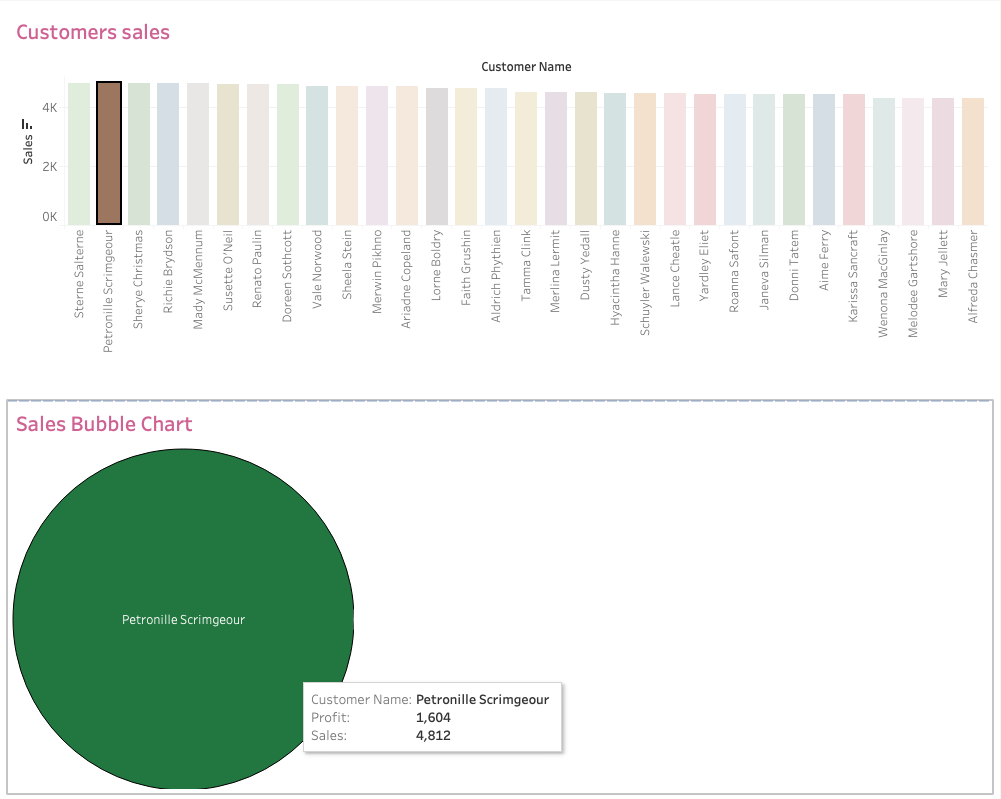

The page's visual inventory and layout, read from the dashboard file:
{"tool":"tableau","page":{"name":"Dashboard 1","canvas":[1000,800],"ordinal":0},"visuals":[{"type":"worksheet","title":"Customers sales","mark":"Bar","rows":["Sales"],"cols":["Customer Name"],"box":[8,8,984,392]},{"type":"worksheet","title":"Sales Bubble Chart","mark":"Circle","box":[8,400,984,392]}]}

Visuals, with their boxes in screenshot pixels (x1, y1, x2, y2), scaled from the page's 1000x800 canvas onto the 1001x799 screenshot:
"Customers sales" worksheet (Bar marks): (8, 8, 993, 400)
"Sales Bubble Chart" worksheet (Circle marks): (8, 400, 993, 791)
